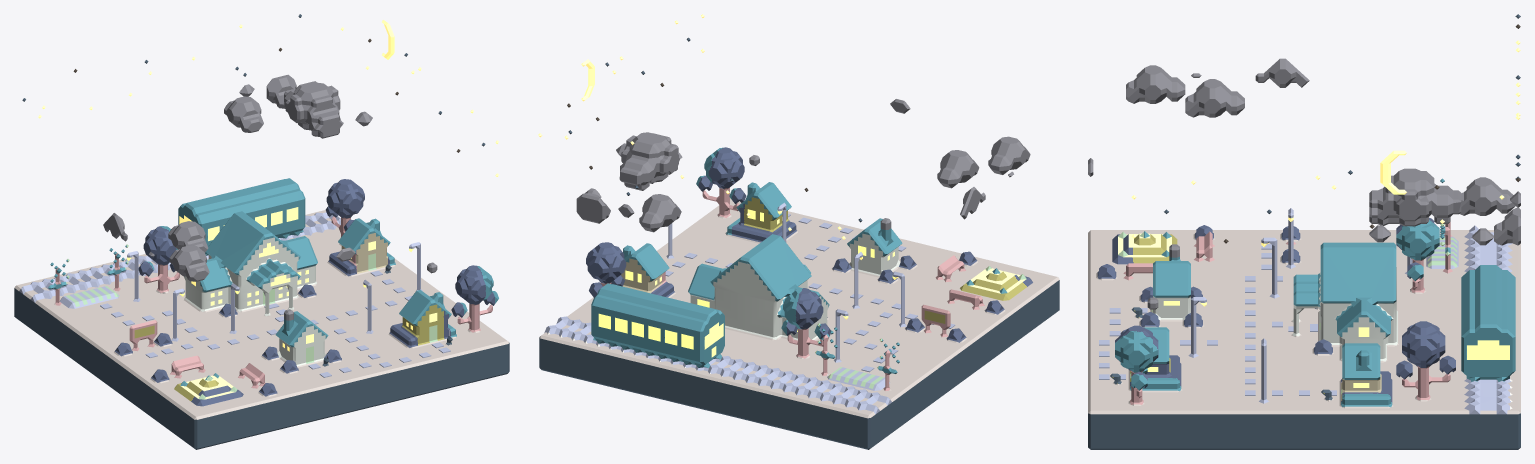
3 renders of one model, left to right at view 1: azimuth 30°, elevation 25°; view 2: azimuth 150°, elevation 25°; view 3: azimuth 270°, elevation 25°, orthographic. The views are drawn at different scales.
Parts seen in each view (by area): view 1: polySurface3269, polySurface3268, townhallroof, train_ext, townhall_main, polySurface2534 (×3), rrTracks, cloud_reduce60, polySurface2514 (×2), polySurface2516 (×2), polySurface2487, polySurface2313 (+8 smaller); view 2: polySurface3269, polySurface3268, train_ext, rrTracks, townhall_main, polySurface2534 (×3), townhallroof, cloud_reduce60, polySurface2516 (×2), polySurface2514 (×2), train_windows, polySurface3257 (+8 smaller); view 3: polySurface3269, polySurface3268, townhallroof, train_ext, polySurface2534 (×3), cloud_reduce60, rrTracks, townhall_main, polySurface2516 (×2), polySurface2508 (×2), polySurface2311, polySurface2487 (+14 smaller).
Part boxes in pixels (<box>): polySurface3269: <box>14,210,509,419</box>; polySurface3268: <box>14,288,509,449</box>; townhallroof: <box>184,211,317,292</box>; train_ext: <box>178,178,305,255</box>; townhall_main: <box>184,237,316,316</box>; polySurface2534 (×3): <box>143,179,493,304</box>; rrTracks: <box>19,212,340,302</box>; cloud_reduce60: <box>284,81,343,138</box>; polySurface2514 (×2): <box>341,233,448,345</box>; polySurface2516 (×2): <box>338,218,451,325</box>; polySurface2487: <box>169,245,209,281</box>; polySurface2313: <box>224,96,263,132</box>; polySurface3269: <box>539,198,1059,418</box>; polySurface3268: <box>539,280,1059,449</box>; train_ext: <box>591,283,724,368</box>; rrTracks: <box>544,316,891,414</box>; townhall_main: <box>690,261,828,340</box>; polySurface2534 (×3): <box>586,147,823,329</box>; townhallroof: <box>688,234,829,317</box>; cloud_reduce60: <box>619,132,682,190</box>; polySurface2516 (×2): <box>623,182,791,280</box>; polySurface2514 (×2): <box>621,197,788,293</box>; train_windows: <box>598,313,723,357</box>; polySurface3257: <box>849,233,900,276</box>; polySurface3269: <box>1088,230,1520,414</box>; polySurface3268: <box>1088,413,1520,449</box>; townhallroof: <box>1293,242,1396,336</box>; train_ext: <box>1461,265,1515,381</box>; polySurface2534 (×3): <box>1115,217,1445,372</box>; cloud_reduce60: <box>1369,168,1461,226</box>; rrTracks: <box>1464,225,1512,414</box>; townhall_main: <box>1292,267,1397,361</box>; polySurface2516 (×2): <box>1144,327,1380,379</box>; polySurface2508 (×2): <box>1130,355,1392,407</box>; polySurface2311: <box>1185,79,1244,117</box>; polySurface2487: <box>1126,65,1185,103</box>.
Size of the model in its own units: 82 by 62 by 80.
1 material, 1 textured.
